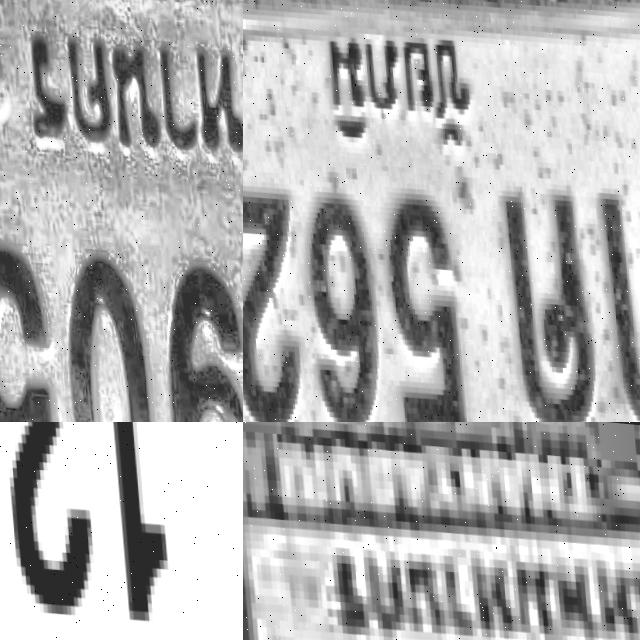license-plate: (243, 0, 640, 422), (0, 0, 243, 422), (243, 422, 640, 640), (0, 422, 243, 640)
